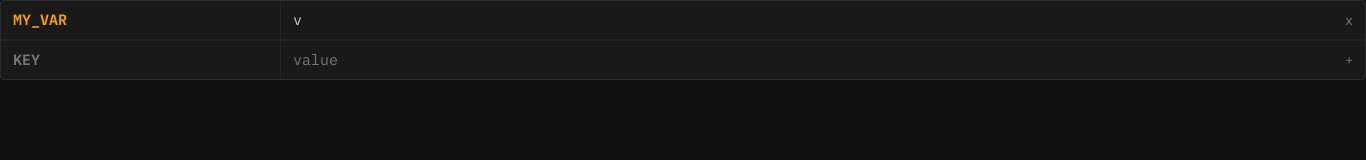
KeyValueField › editable keys (full per-path authoring — Bill ruling) › editing an env-var key is still gated to the env-var pattern (default)
// Append a hyphen — invalid under the env-var POSIX-identifier default.
In the field named "Key for MY_VAR": [140, 20] box [13,8,268,32], type "-BAD"
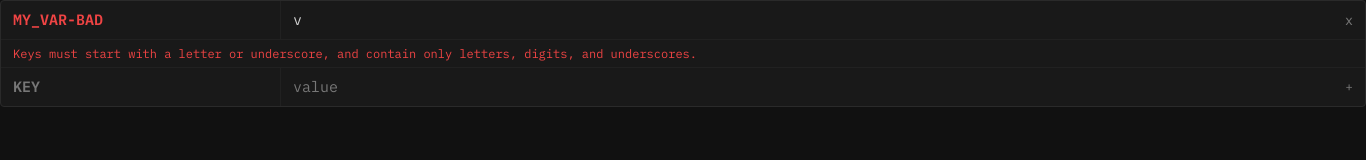
Result: the text "Keys must start with a letter or underscore, and contain only letters, digits, and underscores." is shown at [13,46,697,61]
